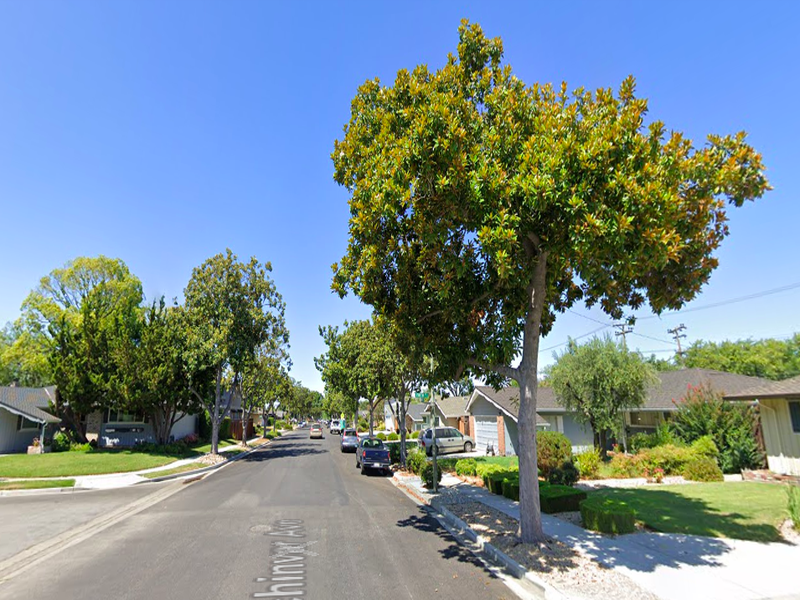tree: (330, 16, 775, 551)
